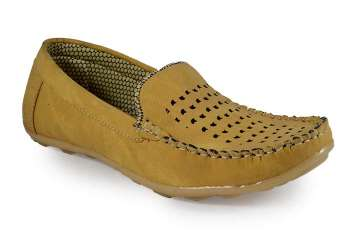Footwear: (19, 30, 338, 204)
